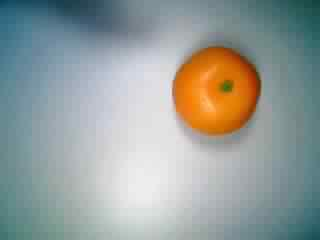orange: (169, 41, 266, 138)
